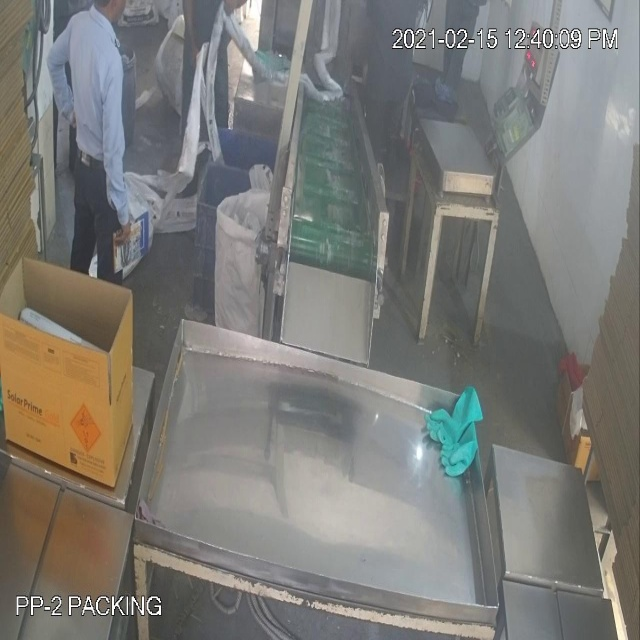Guantes: (419, 386, 487, 486)
Sin_guantes: (102, 50, 139, 252)
